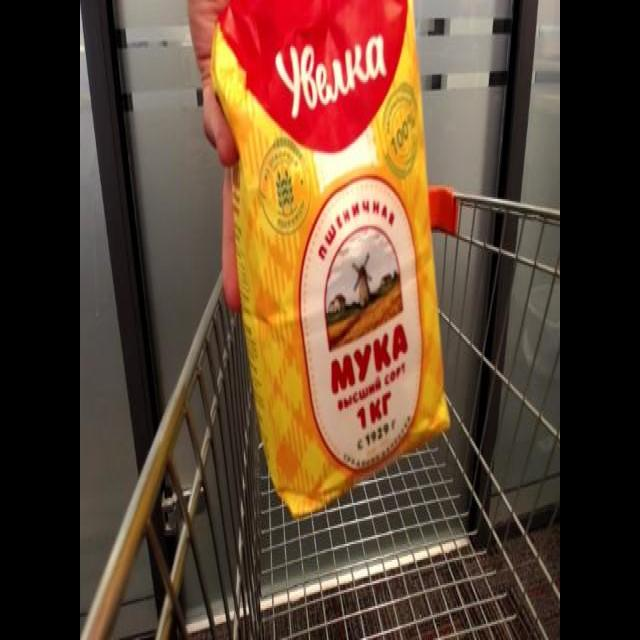Flour: (216, 0, 451, 519)
